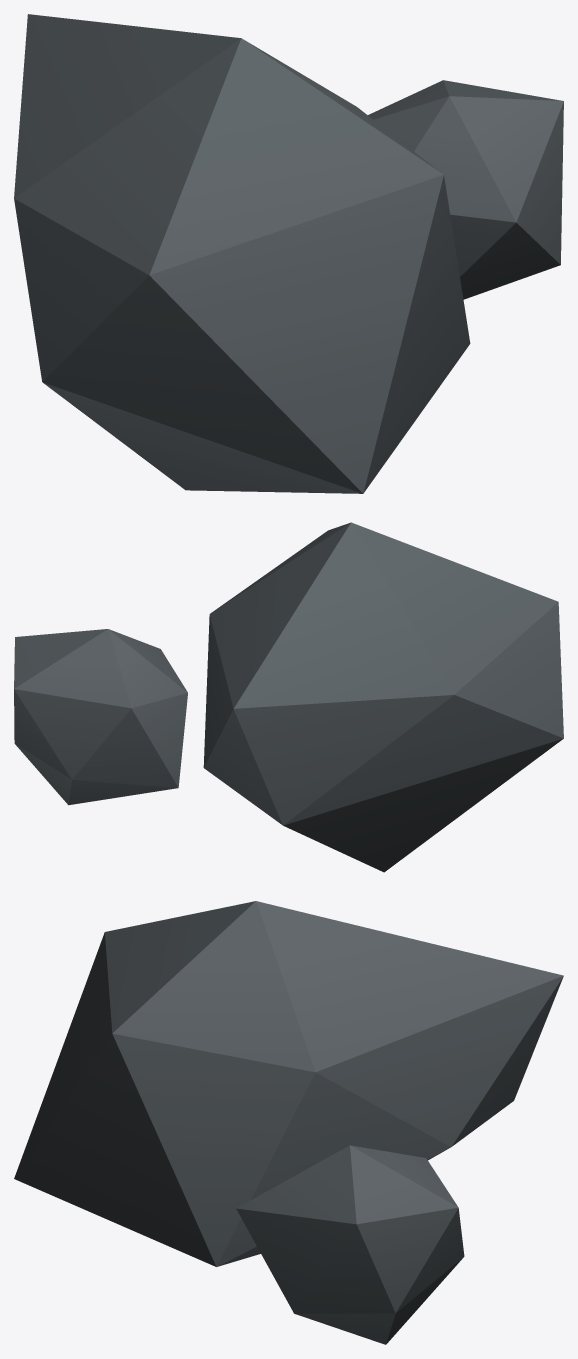
Rendered from boulder_a.glb.
3 views of the same model, one above another, from view 1: azimuth 30°, elevation 25°; view 2: azimuth 150°, elevation 25°; view 3: azimuth 270°, elevation 25° (orthographic). The views are drawn at different scales.
Parts seen in each view (by area): view 1: boulder_a; view 2: boulder_a; view 3: boulder_a.
Part boxes in pixels (left/top/right/bottom): boulder_a: left=14, top=14, right=563, bottom=493; boulder_a: left=14, top=522, right=563, bottom=872; boulder_a: left=14, top=901, right=563, bottom=1344.
Size of the model in its own units: 2.01 by 1.37 by 1.84.
1 material, 1 textured.
